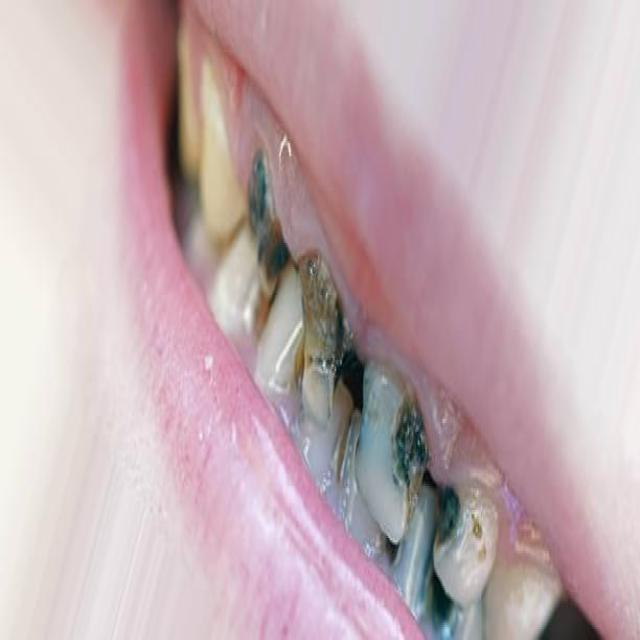caries: (292, 247, 354, 428), (358, 351, 426, 512), (244, 138, 292, 308), (418, 557, 470, 640), (430, 467, 469, 557)
